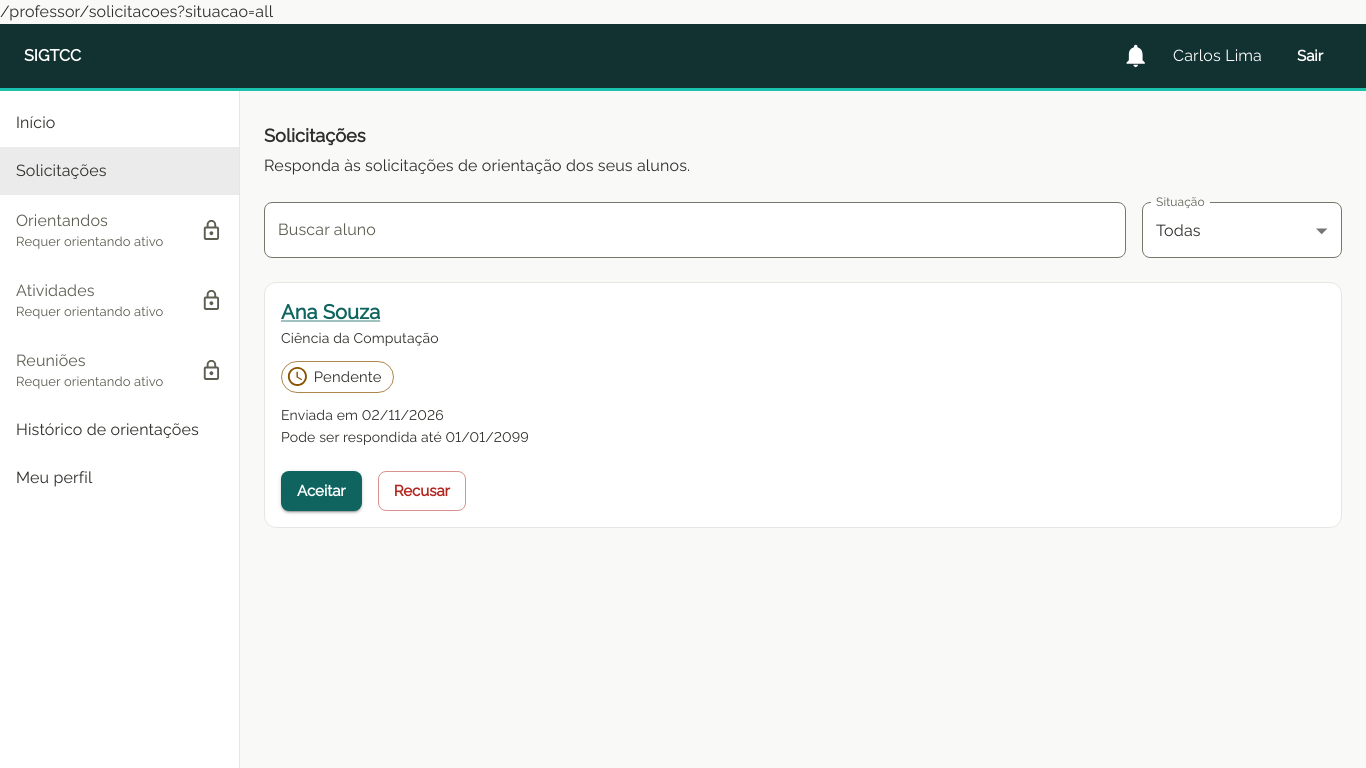
Test: Solicitações do professor: o diálogo aberto quando a solicitação muda › respondida em outra aba (accepted), o diálogo Recusar avisa e bloqueia
The width and height of the screenshot is (1366, 768).
expect the element "Ana Souza" is shown: met, box [264, 282, 1342, 528]
Click the button "Recusar". click: (422, 491)
box: [378, 471, 466, 511]
Wait 30000 ms
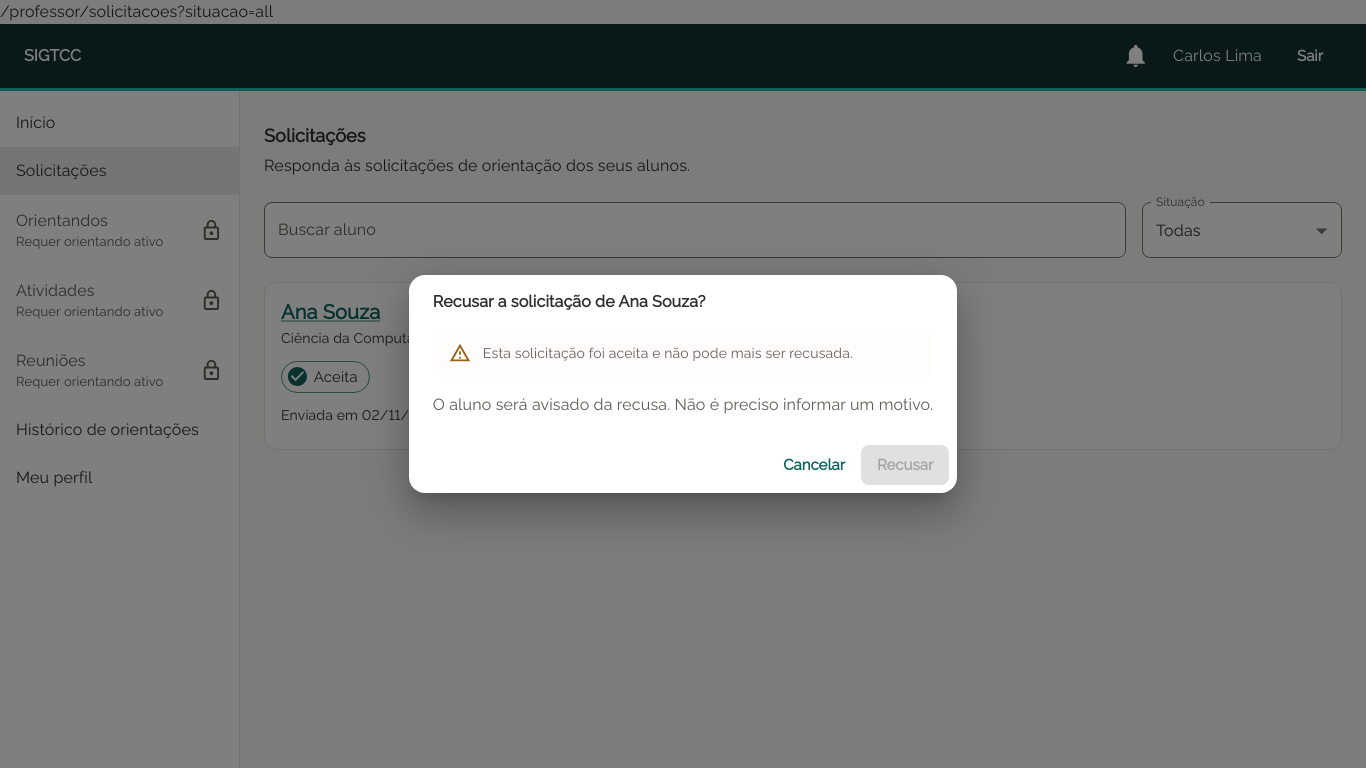
expect the text "Esta solicitação foi aceita e não pode mais ser recusada." is shown: met, box [483, 345, 853, 361]
expect the button "Recusar" is disabled: met, box [861, 445, 949, 485]
